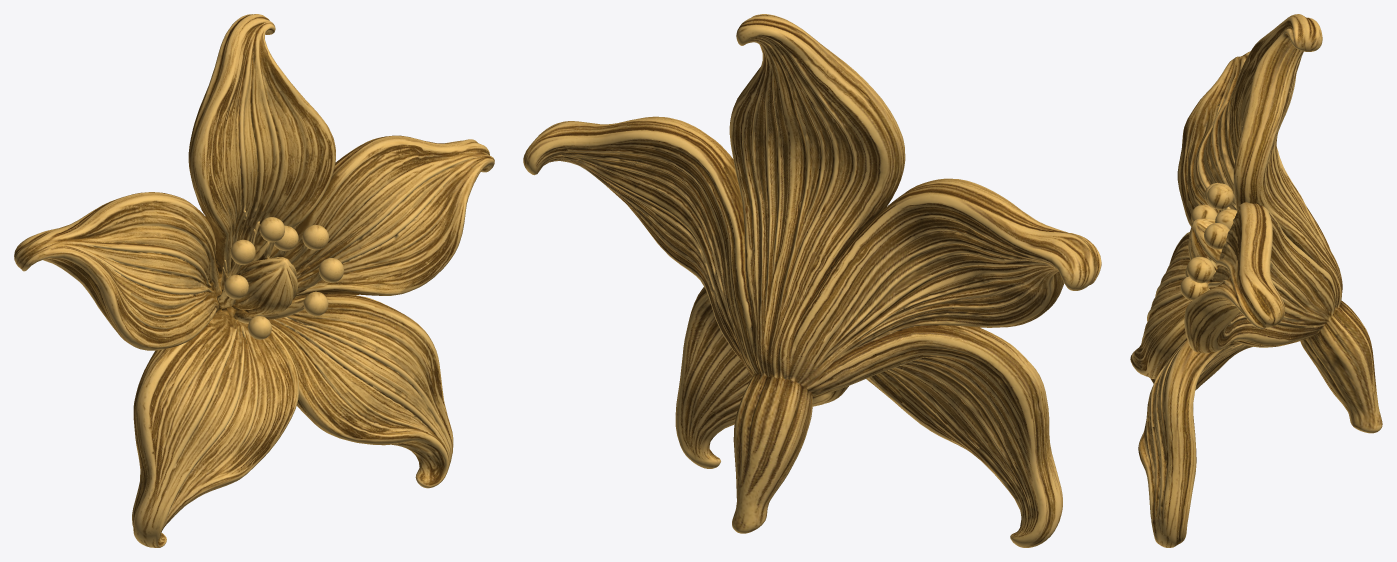
Rendered from golden-blossom.glb.
3 views of the same model, side by side, from view 1: azimuth 30°, elevation 25°; view 2: azimuth 150°, elevation 25°; view 3: azimuth 270°, elevation 25° (orthographic). The views are drawn at different scales.
Size of the model in its own units: 1.9 by 1.74 by 0.8437.
1 material, 1 textured.
